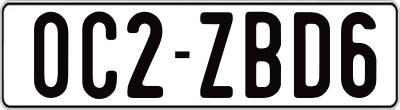0: (33, 12, 68, 100)
2: (124, 11, 160, 97)
6: (341, 10, 377, 102)
B: (245, 9, 282, 101)
C: (82, 12, 123, 103)
D: (294, 10, 331, 97)
Z: (199, 9, 238, 99)
